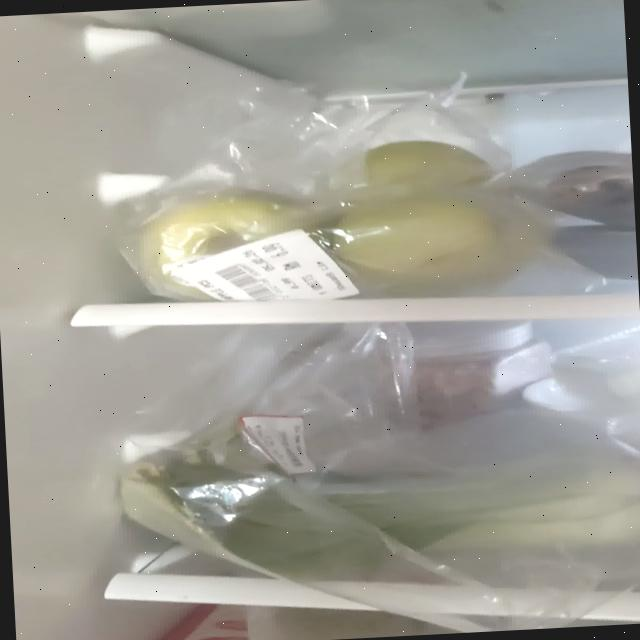apple: (132, 132, 555, 314)
pakchoy: (113, 423, 640, 578)
